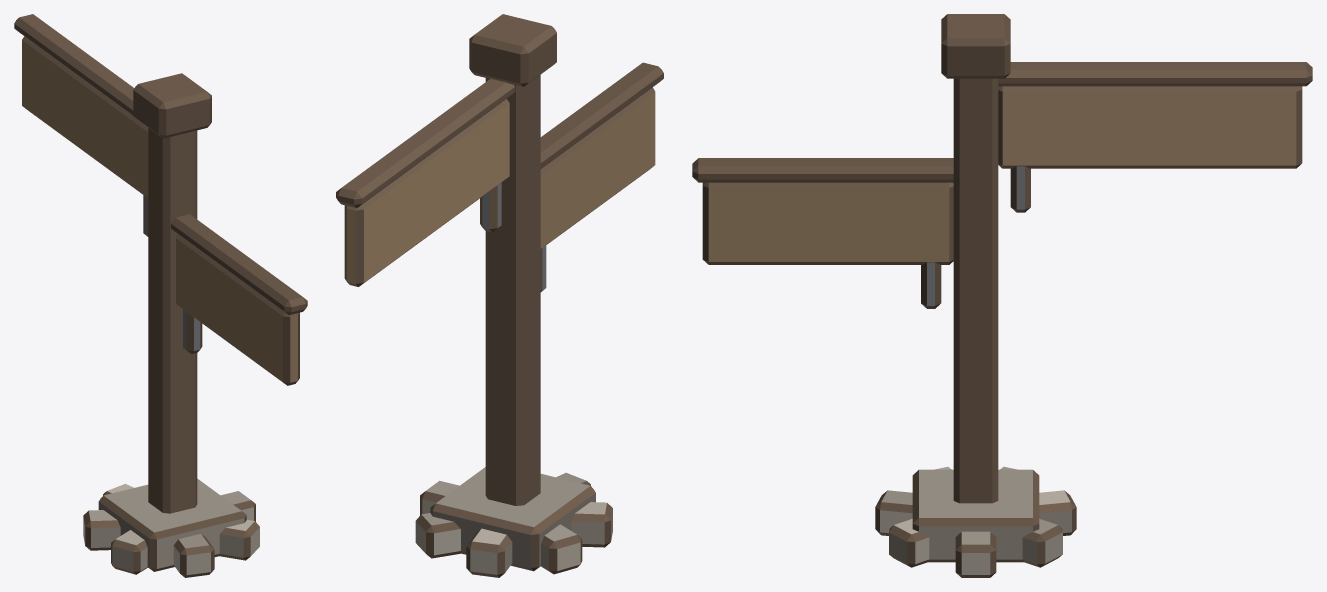
The model's file is SM_Kit_placa.fbx.
3 renders of one model, left to right at view 1: azimuth 30°, elevation 25°; view 2: azimuth 150°, elevation 25°; view 3: azimuth 270°, elevation 25°, orthographic. The views are drawn at different scales.
Visible parts, largest first — view 1: SM_Kit_placa; view 2: SM_Kit_placa; view 3: SM_Kit_placa.
Boxes of the visible parts, x1=… form: SM_Kit_placa: x1=14, y1=14, x2=307, y2=577; SM_Kit_placa: x1=336, y1=14, x2=663, y2=577; SM_Kit_placa: x1=692, y1=14, x2=1312, y2=577.
Size of what is drawn, in the model's own units: 96.18 by 277 by 304.
